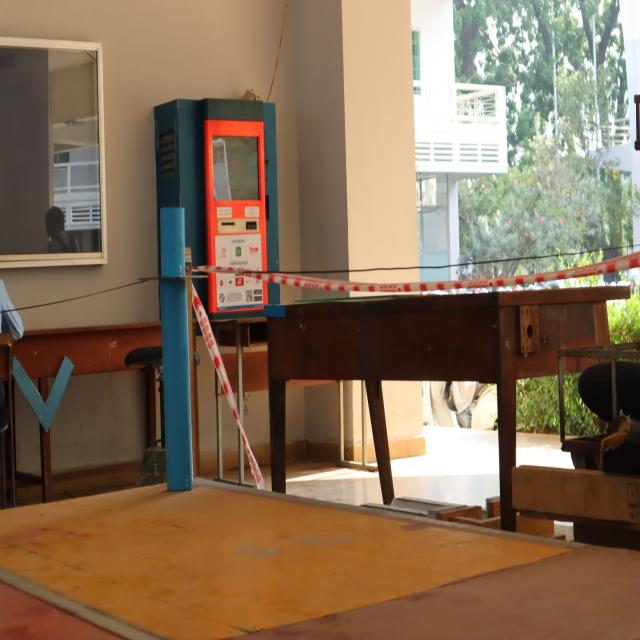pole: (137, 204, 209, 340)
